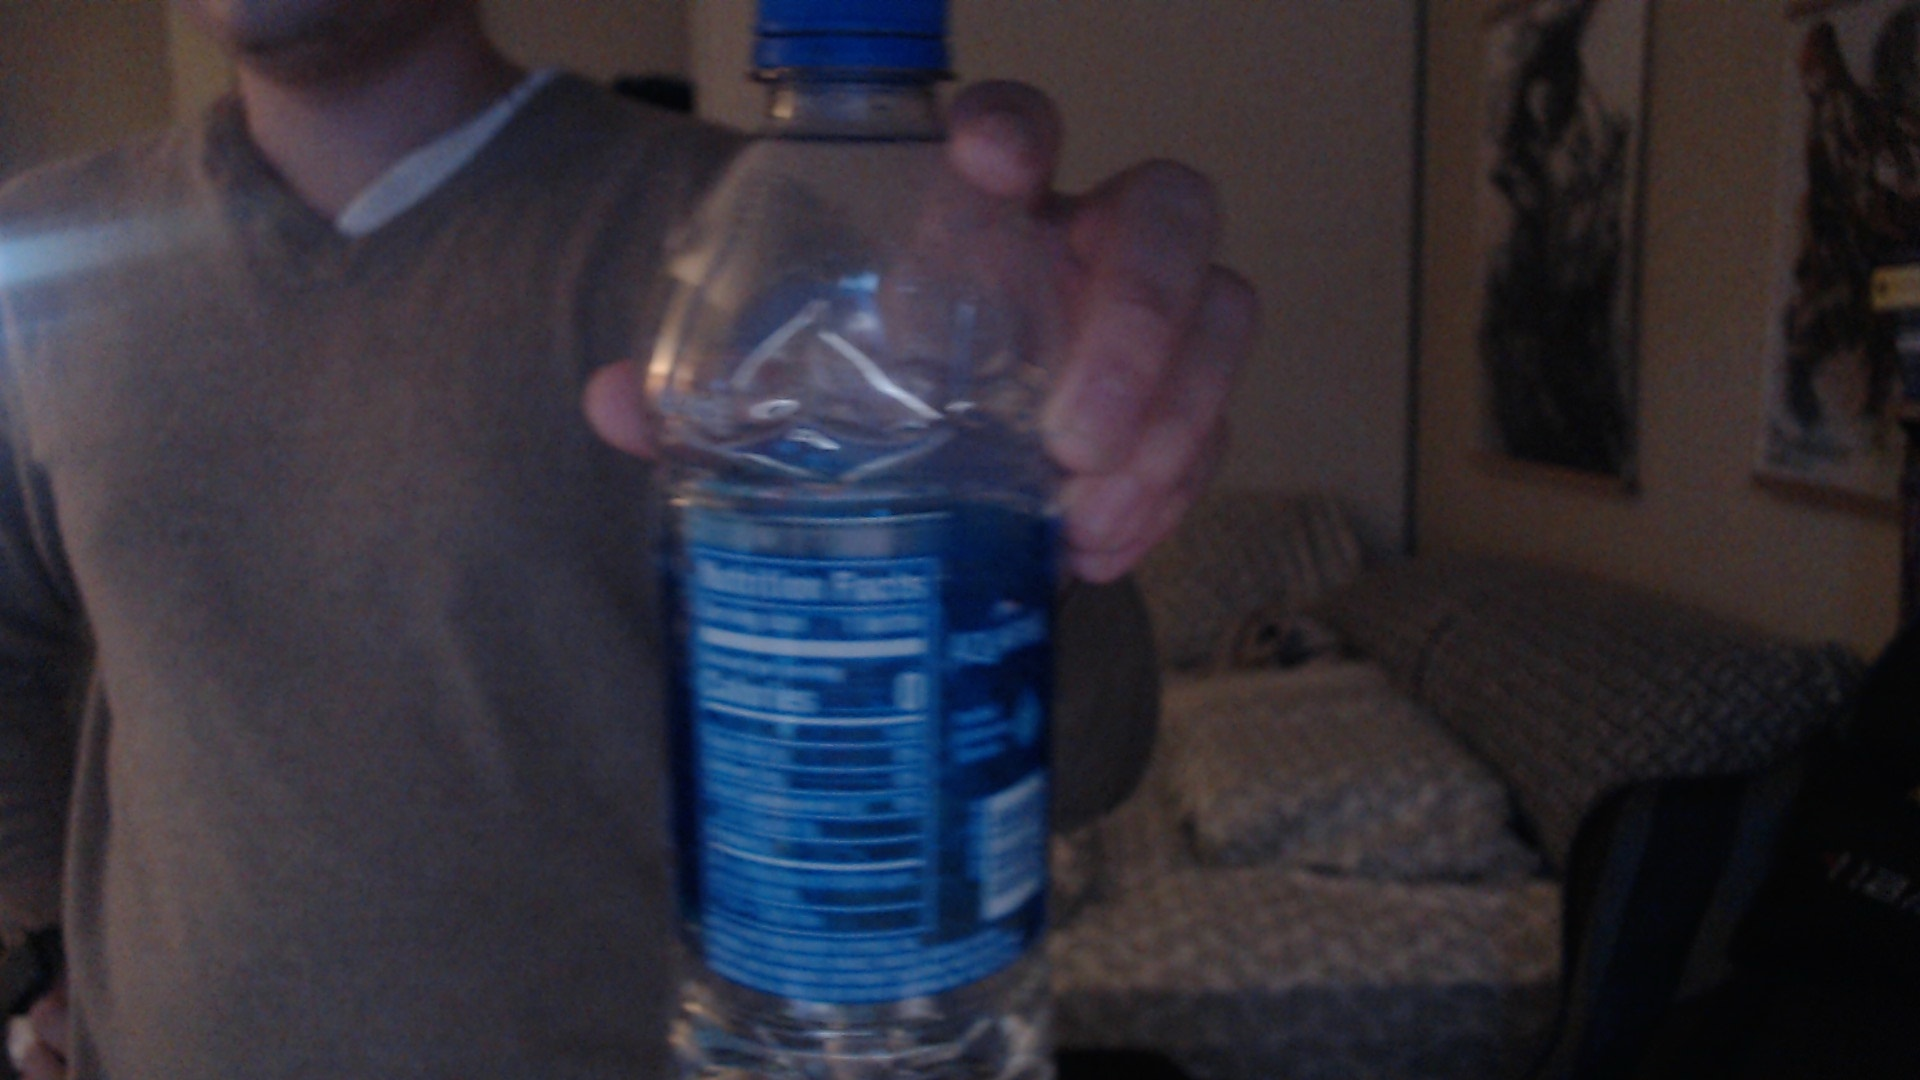bottle: (616, 1, 1065, 1080)
